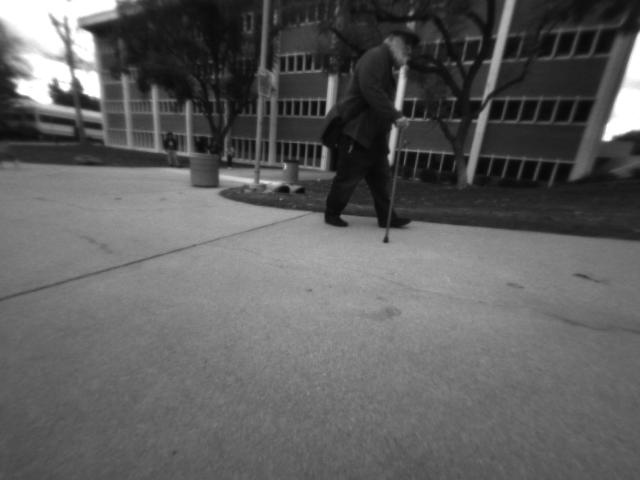trashcan: (183, 147, 226, 189), (278, 155, 302, 186)
